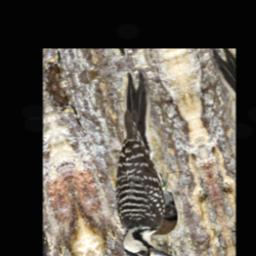Woodpecker: (76, 66, 196, 256)
